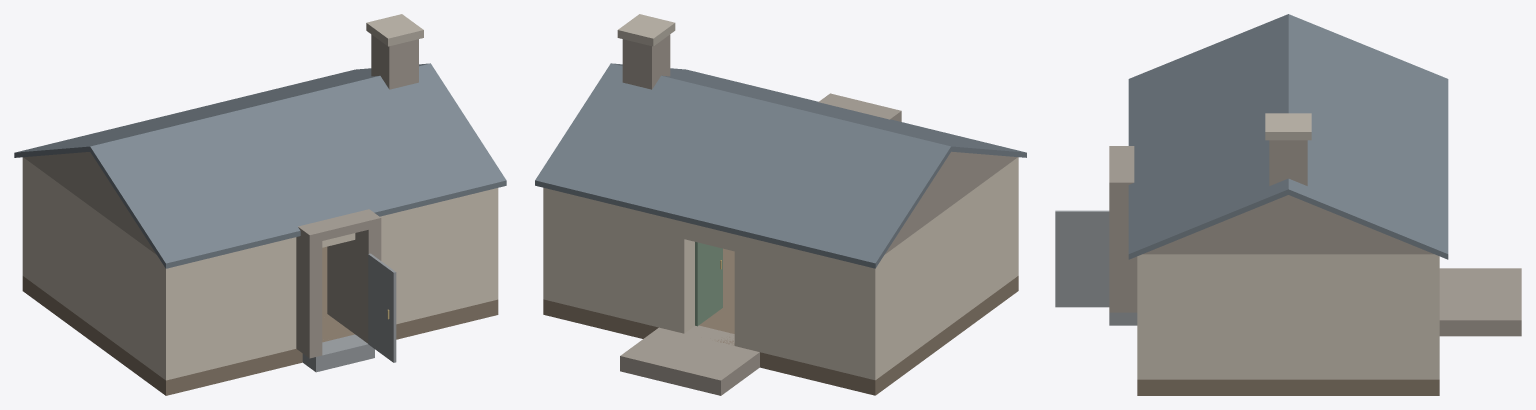
Rendered from SM_Shell_House.fbx.
3 views of the same model, side by side, from view 1: azimuth 30°, elevation 25°; view 2: azimuth 150°, elevation 25°; view 3: azimuth 270°, elevation 25° (orthographic). The views are drawn at different scales.
Visible parts, largest first — view 1: SM_Roof_House_1, SM_Wall_House_Side_1, SM_Wall_House_North_1, SM_Wall_House_North_N1, SM_Floor_House, SM_Roof_House_N1, SM_Wall_Throat_N1, SM_Gable_House_1, SM_Wall_Throat_1, SM_Door_Steel, SM_Wall_House_Side_N1, SM_Chimney_Stack (+3 smaller); view 2: SM_Roof_House_N1, SM_Wall_House_Side_1, SM_Wall_House_South_N1, SM_Wall_House_South_1, SM_Floor_House, SM_Floor_Porch, SM_Roof_House_1, SM_Gable_House_1, SM_Chimney_Stack, SM_Door_Green, SM_Wall_House_Side_N1, SM_Chimney_Cap (+2 smaller); view 3: SM_Wall_House_Side_N1, SM_Roof_House_N1, SM_Roof_House_1, SM_Gable_House_N1, SM_Floor_Porch, SM_Door_Steel, SM_Floor_House, SM_Wall_House_North_N1, SM_Wall_Throat_N1, SM_Chimney_Stack, SM_Wall_House_South_N1, SM_Chimney_Cap (+1 smaller).
Part boxes in pixels (x1=…): SM_Roof_House_1: x1=90, y1=63, x2=506, y2=268; SM_Wall_House_Side_1: x1=22, y1=157, x2=184, y2=379; SM_Wall_House_North_1: x1=155, y1=237, x2=296, y2=380; SM_Wall_House_North_N1: x1=380, y1=188, x2=498, y2=324; SM_Floor_House: x1=22, y1=246, x2=498, y2=395; SM_Roof_House_N1: x1=14, y1=63, x2=428, y2=157; SM_Wall_Throat_N1: x1=327, y1=227, x2=381, y2=343; SM_Gable_House_1: x1=24, y1=152, x2=156, y2=254; SM_Wall_Throat_1: x1=296, y1=236, x2=322, y2=358; SM_Door_Steel: x1=368, y1=253, x2=396, y2=362; SM_Wall_House_Side_N1: x1=479, y1=188, x2=498, y2=303; SM_Chimney_Stack: x1=371, y1=34, x2=418, y2=89; SM_Roof_House_N1: x1=535, y1=63, x2=951, y2=268; SM_Wall_House_Side_1: x1=856, y1=157, x2=1018, y2=380; SM_Wall_House_South_N1: x1=543, y1=188, x2=694, y2=333; SM_Wall_House_South_1: x1=734, y1=234, x2=886, y2=379; SM_Floor_House: x1=543, y1=248, x2=1018, y2=395; SM_Floor_Porch: x1=620, y1=325, x2=759, y2=395; SM_Roof_House_1: x1=611, y1=63, x2=1026, y2=157; SM_Gable_House_1: x1=885, y1=151, x2=1017, y2=254; SM_Chimney_Stack: x1=622, y1=34, x2=670, y2=89; SM_Door_Green: x1=695, y1=242, x2=722, y2=326; SM_Wall_House_Side_N1: x1=543, y1=187, x2=562, y2=301; SM_Chimney_Cap: x1=617, y1=14, x2=675, y2=46; SM_Wall_House_Side_N1: x1=1137, y1=254, x2=1439, y2=379; SM_Roof_House_N1: x1=1288, y1=14, x2=1448, y2=259; SM_Roof_House_1: x1=1128, y1=14, x2=1288, y2=259; SM_Gable_House_N1: x1=1143, y1=195, x2=1433, y2=254; SM_Floor_Porch: x1=1439, y1=268, x2=1521, y2=336; SM_Door_Steel: x1=1055, y1=210, x2=1109, y2=307; SM_Floor_House: x1=1137, y1=379, x2=1439, y2=395; SM_Wall_House_North_N1: x1=1137, y1=254, x2=1160, y2=379; SM_Wall_Throat_N1: x1=1109, y1=192, x2=1137, y2=312; SM_Chimney_Stack: x1=1269, y1=140, x2=1307, y2=185; SM_Wall_House_South_N1: x1=1416, y1=254, x2=1439, y2=379; SM_Chimney_Cap: x1=1265, y1=113, x2=1311, y2=140.
Size of what is drawn, in the model's own units: 810 by 554 by 910.
